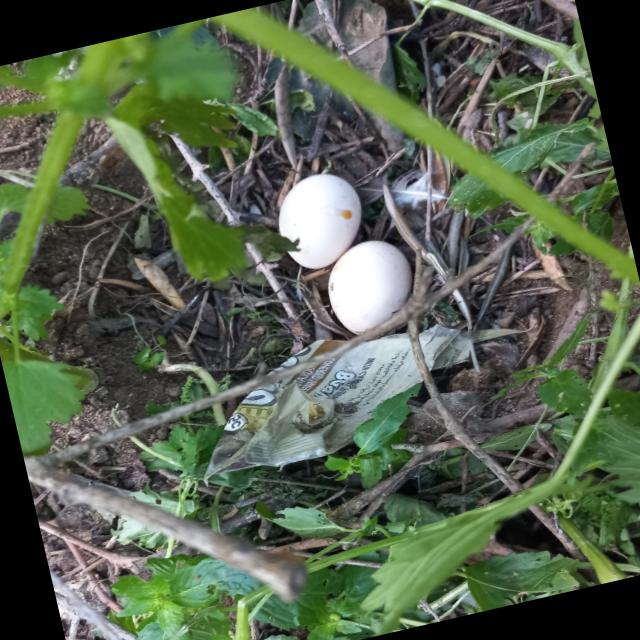Plastic bag - wrapper: (202, 320, 528, 490)
